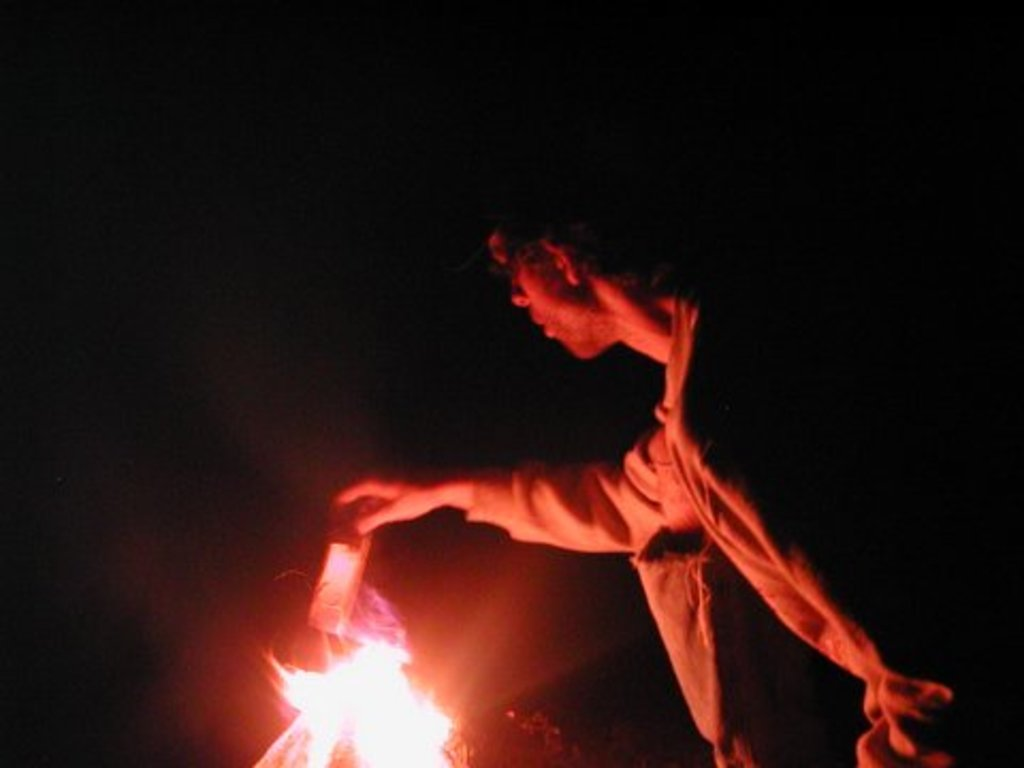face: (501, 230, 604, 359)
